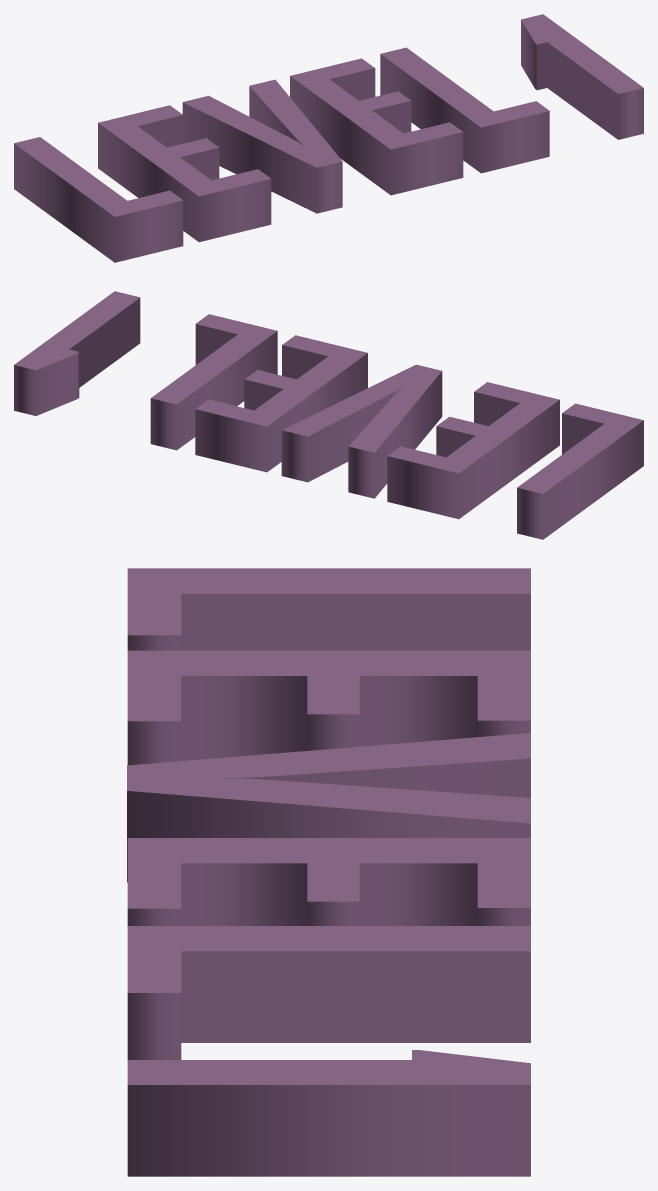
Rendered from Level_1.fbx.
The picture shows the model from 3 angles, top to bottom: view 1: azimuth 30°, elevation 25°; view 2: azimuth 150°, elevation 25°; view 3: azimuth 270°, elevation 25°; orthographic projection. The views are drawn at different scales.
Visible parts, largest first — view 1: Text; view 2: Text; view 3: Text.
Boxes of the visible parts, bbox=[...] form: Text: bbox=[14, 14, 643, 262]; Text: bbox=[14, 291, 643, 539]; Text: bbox=[127, 568, 530, 1176].
Size of the model in its own units: 193 by 16 by 63.91.
